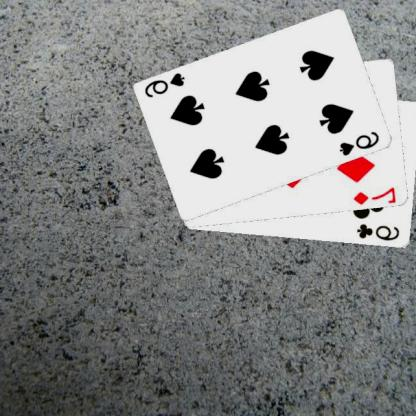6C: (356, 221, 403, 243)
6S: (338, 128, 383, 158), (144, 70, 188, 99)
7D: (353, 185, 399, 206)
